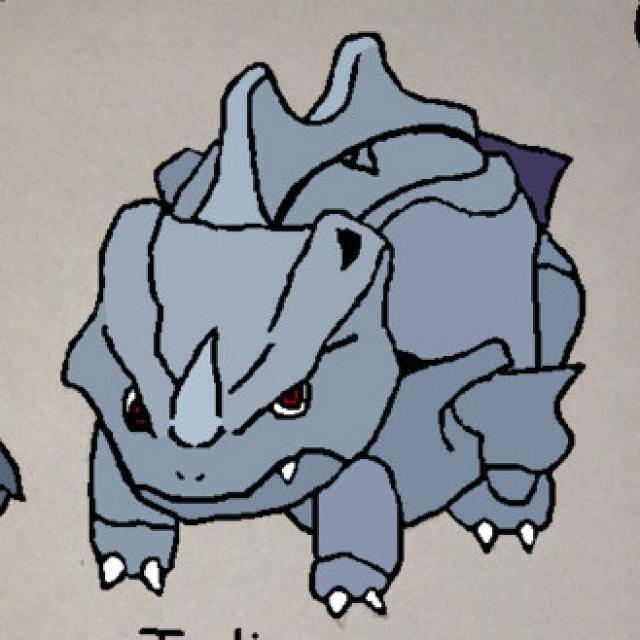Rhyhorn: (83, 32, 554, 558)
